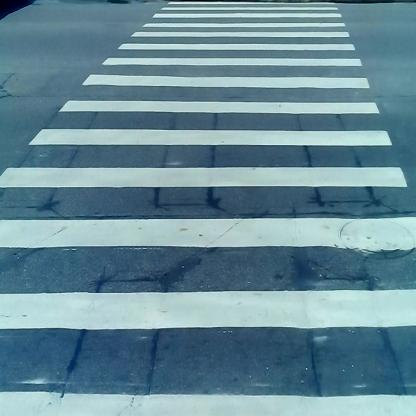crosswalk: (31, 16, 373, 416)
